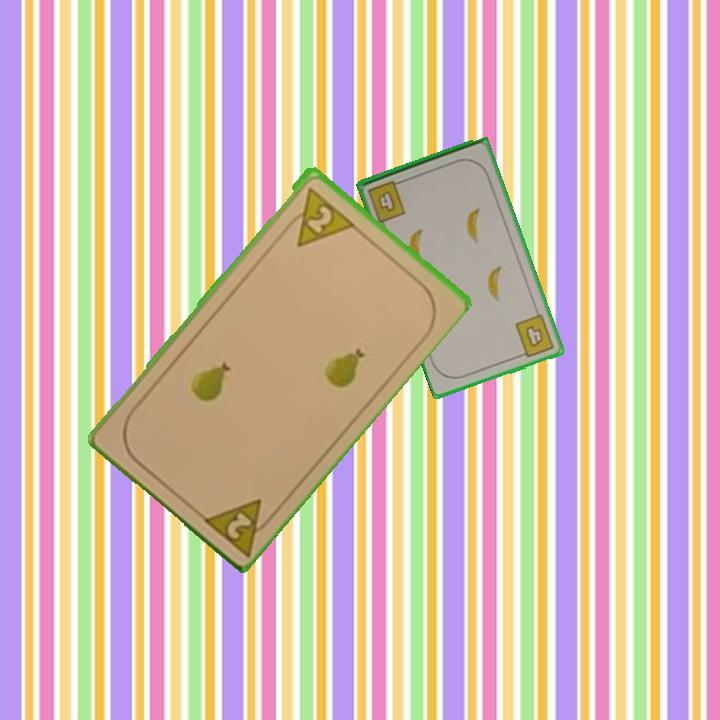2p: (197, 493, 280, 558), (280, 181, 356, 250)
4b: (512, 311, 558, 361), (364, 177, 409, 226)
